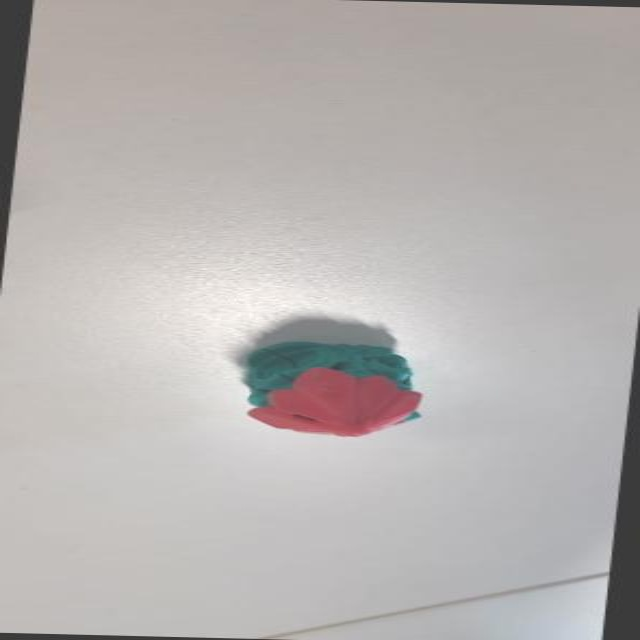House: (219, 333, 434, 445)
